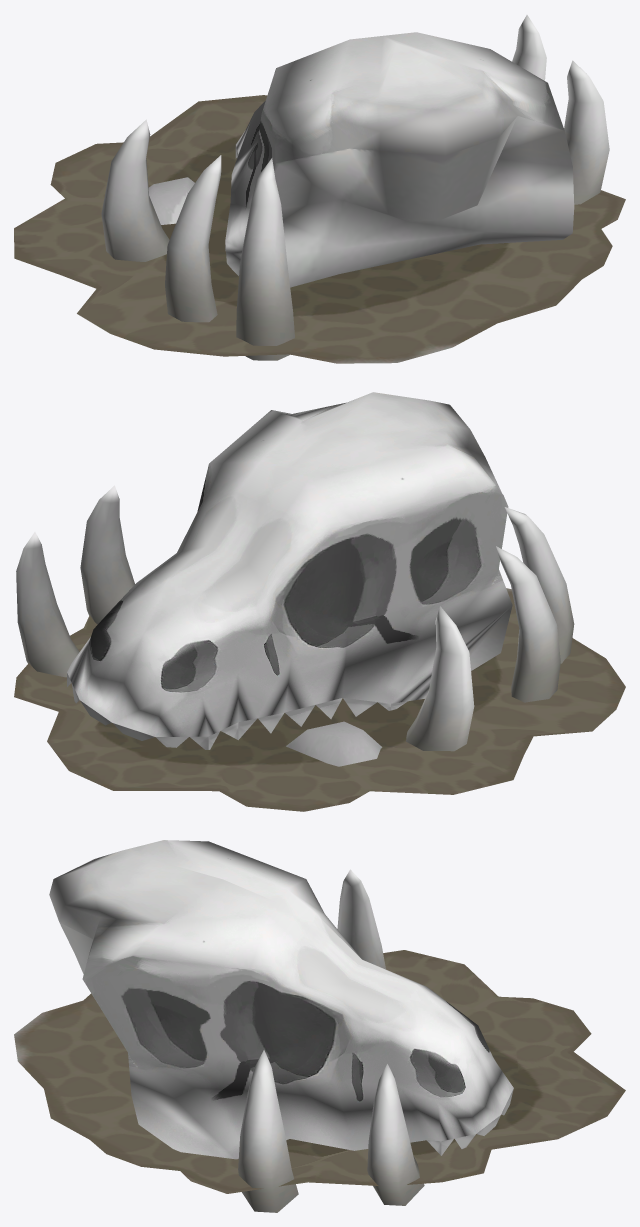
The model's file is StreambedOdysseyStatue.fbx.
The picture shows the model from 3 angles, top to bottom: view 1: azimuth 30°, elevation 25°; view 2: azimuth 150°, elevation 25°; view 3: azimuth 270°, elevation 25°; orthographic projection. The views are drawn at different scales.
Visible parts, largest first — view 1: StreamBedOdysseyStatue; view 2: StreamBedOdysseyStatue; view 3: StreamBedOdysseyStatue.
Boxes of the visible parts, x1,y1,x2,y2 form: StreamBedOdysseyStatue: (14, 15, 625, 363); StreamBedOdysseyStatue: (14, 392, 625, 811); StreamBedOdysseyStatue: (14, 840, 625, 1212).
Size of the model in its own units: 18.78 by 8.49 by 19.47.
Materials: 1 (1 with a texture image).
